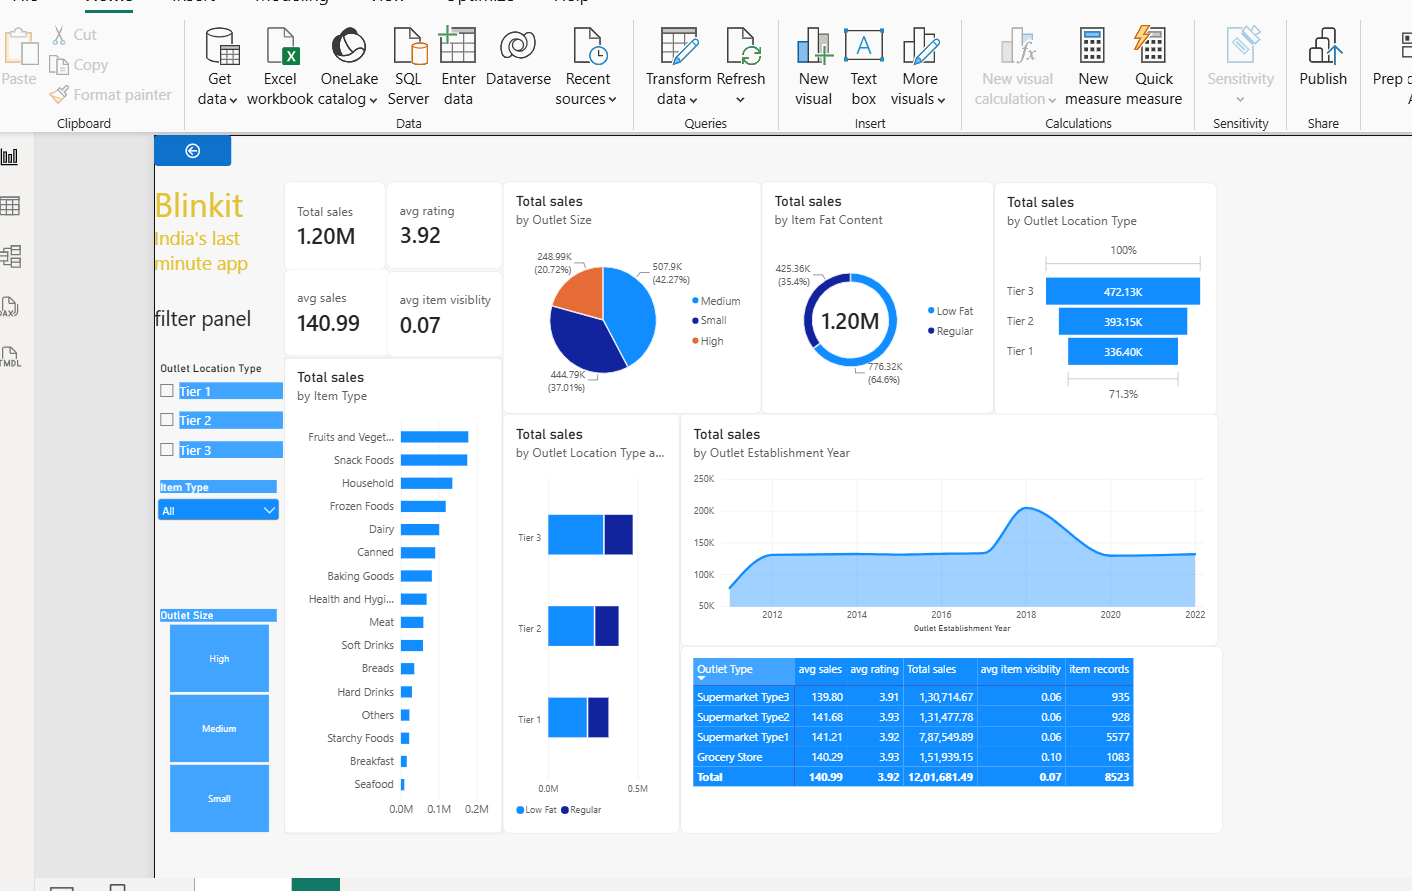

This screenshot's page, from the dashboard's own definition file:
{"tool":"powerbi","page":{"name":"Page 2","canvas":[1920,1080],"ordinal":0},"visuals":[{"type":"pieChart","fields":{"Category":["blinkIT.Outlet Size"],"Y":["blinkIT.Total sales"]},"box":[450,60,333.3,300],"z":9},{"type":"donutChart","fields":{"Category":["blinkIT.Item Fat Content"],"Y":["blinkIT.Total sales"]},"box":[783.3,60,300,300],"z":10},{"type":"funnel","fields":{"Category":["blinkIT.Outlet Location Type"],"Y":["blinkIT.Total sales"]},"box":[1084.3,60.8,288.2,300],"z":11},{"type":"actionButton","box":[0,0,100,40],"z":13},{"type":"stackedAreaChart","fields":{"Category":["blinkIT.Outlet Establishment Year"],"Y":["blinkIT.Total sales"]},"box":[678.3,360,694.4,300],"z":14},{"type":"pivotTable","fields":{"Rows":["blinkIT.Outlet Type"],"Values":["blinkIT.avg sales","blinkIT.avg rating","blinkIT.Total sales","blinkIT.avg item visiblity","blinkIT.item records"]},"box":[678.3,660,700,241.7],"z":15},{"type":"clusteredBarChart","fields":{"Category":["blinkIT.Item Type"],"Y":["blinkIT.Total sales"]},"box":[168.3,286.7,281.7,615],"z":16},{"type":"barChart","fields":{"Category":["blinkIT.Outlet Location Type"],"Series":["blinkIT.Item Fat Content"],"Y":["blinkIT.Total sales"]},"box":[450,360,228.3,541.7],"z":18},{"type":"cardVisual","fields":{"Data":["blinkIT.Total sales"]},"box":[168.3,60,131.7,115],"z":19},{"type":"cardVisual","fields":{"Data":["blinkIT.avg rating"]},"box":[300,60,150,113.3],"z":20},{"type":"cardVisual","fields":{"Data":["blinkIT.avg sales"]},"box":[168.3,173.3,138.3,113.3],"z":21},{"type":"cardVisual","fields":{"Data":["blinkIT.avg item visiblity"]},"box":[300,175,150,111.7],"z":22},{"type":"slicer","fields":{"Values":["blinkIT.Outlet Location Type"]},"box":[0,291.7,166.7,248.3],"z":23},{"type":"slicer","fields":{"Values":["blinkIT.Outlet Size"]},"box":[0,611.8,166.7,290.2],"z":24},{"type":"slicer","fields":{"Values":["blinkIT.Item Type"]},"box":[0,445.1,166.7,149],"z":25},{"type":"textbox","box":[150,902,300,178],"z":26},{"type":"textbox","box":[0,60,168.3,205],"z":27}]}

Visuals, with their boxes on the page's 1920x1080 design canvas (x1, y1, x2, y2). These are canvas units, not pixel positions in the 1412x891 screenshot, which may show the page scaled, cropped or inside an application window:
pieChart - blinkIT.Outlet Size x blinkIT.Total sales: rect(450, 60, 783, 360)
donutChart - blinkIT.Item Fat Content x blinkIT.Total sales: rect(783, 60, 1083, 360)
funnel - blinkIT.Outlet Location Type x blinkIT.Total sales: rect(1084, 61, 1372, 361)
actionButton: rect(0, 0, 100, 40)
stackedAreaChart - blinkIT.Outlet Establishment Year x blinkIT.Total sales: rect(678, 360, 1373, 660)
pivotTable - blinkIT.Outlet Type x blinkIT.avg sales: rect(678, 660, 1378, 902)
clusteredBarChart - blinkIT.Item Type x blinkIT.Total sales: rect(168, 287, 450, 902)
barChart - blinkIT.Outlet Location Type x blinkIT.Item Fat Content: rect(450, 360, 678, 902)
cardVisual - blinkIT.Total sales: rect(168, 60, 300, 175)
cardVisual - blinkIT.avg rating: rect(300, 60, 450, 173)
cardVisual - blinkIT.avg sales: rect(168, 173, 307, 287)
cardVisual - blinkIT.avg item visiblity: rect(300, 175, 450, 287)
slicer - blinkIT.Outlet Location Type: rect(0, 292, 167, 540)
slicer - blinkIT.Outlet Size: rect(0, 612, 167, 902)
slicer - blinkIT.Item Type: rect(0, 445, 167, 594)
textbox: rect(150, 902, 450, 1080)
textbox: rect(0, 60, 168, 265)
